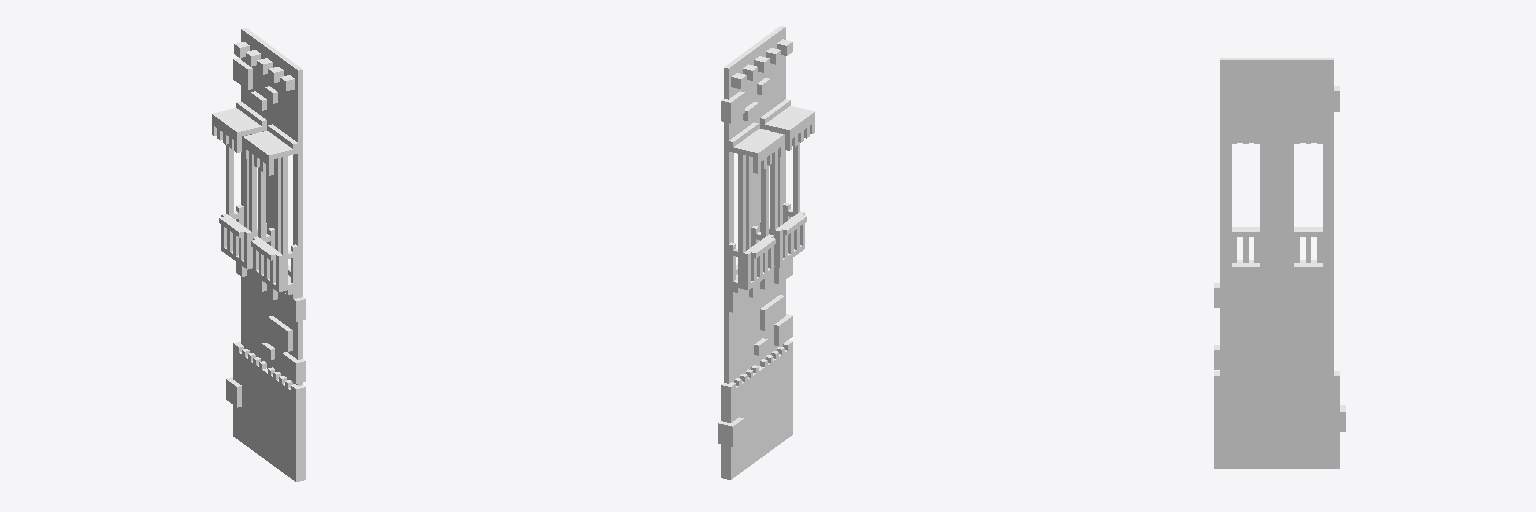
Rendered from TallBuilding03-1.obj.
The picture shows the model from 3 angles: view 1: azimuth 30°, elevation 25°; view 2: azimuth 150°, elevation 25°; view 3: azimuth 270°, elevation 25°; orthographic projection.
Visible parts, largest first — view 1: object 1; view 2: object 1; view 3: object 1.
Boxes of the visible parts, box(x1,y1,x2,y2) form: object 1: box(212, 28, 305, 481); object 1: box(718, 26, 814, 479); object 1: box(1214, 58, 1345, 468).
Size of the model in its own units: 0.7 by 7.9 by 2.3.